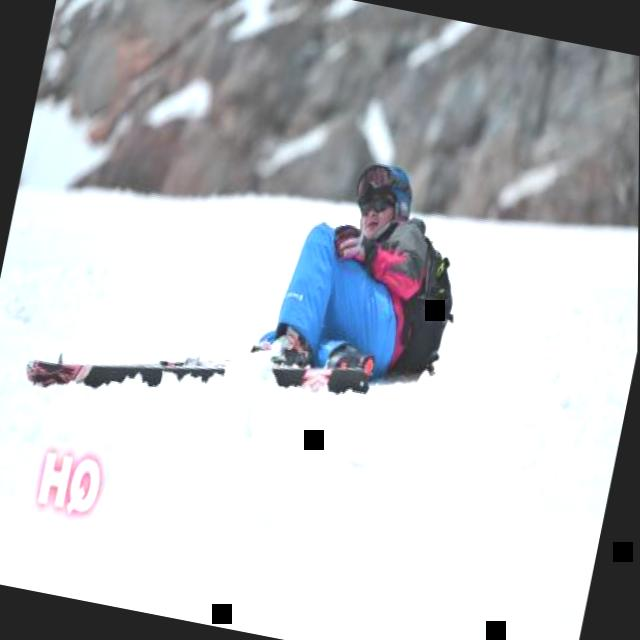Fall-Detected: (230, 128, 497, 438)
